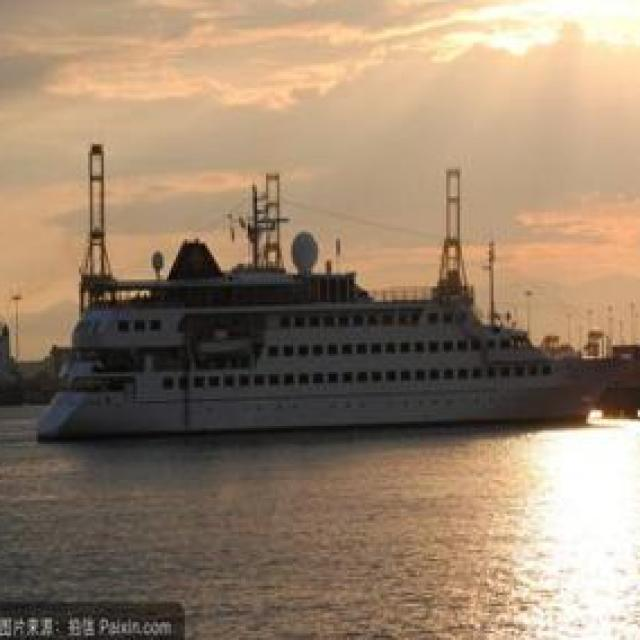passenger ship: (36, 196, 599, 433)
